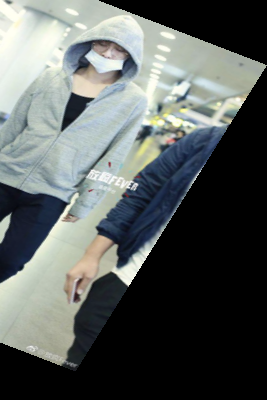mask_weared_incorrect: (75, 10, 153, 91)
